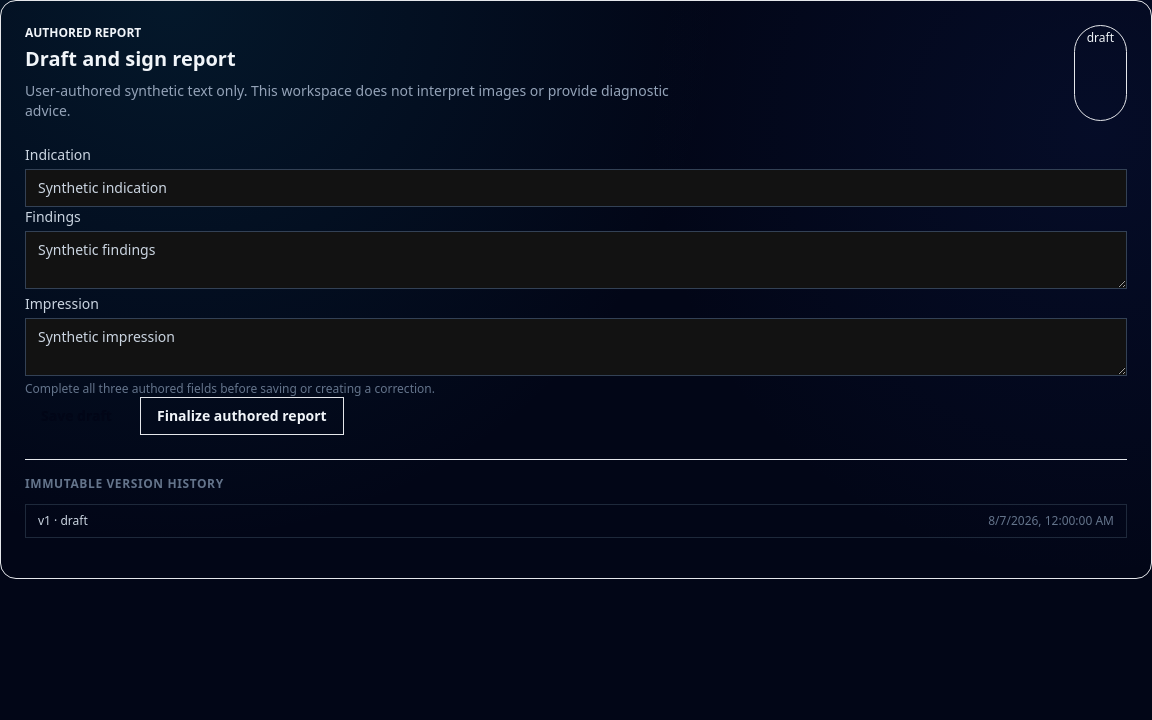
Test: ReportEditor › shows a stale-version detail without retrying the finalization
Click the button "Finalize authored report" at (242, 416), box top-left (140, 397), bottom-right (344, 435)
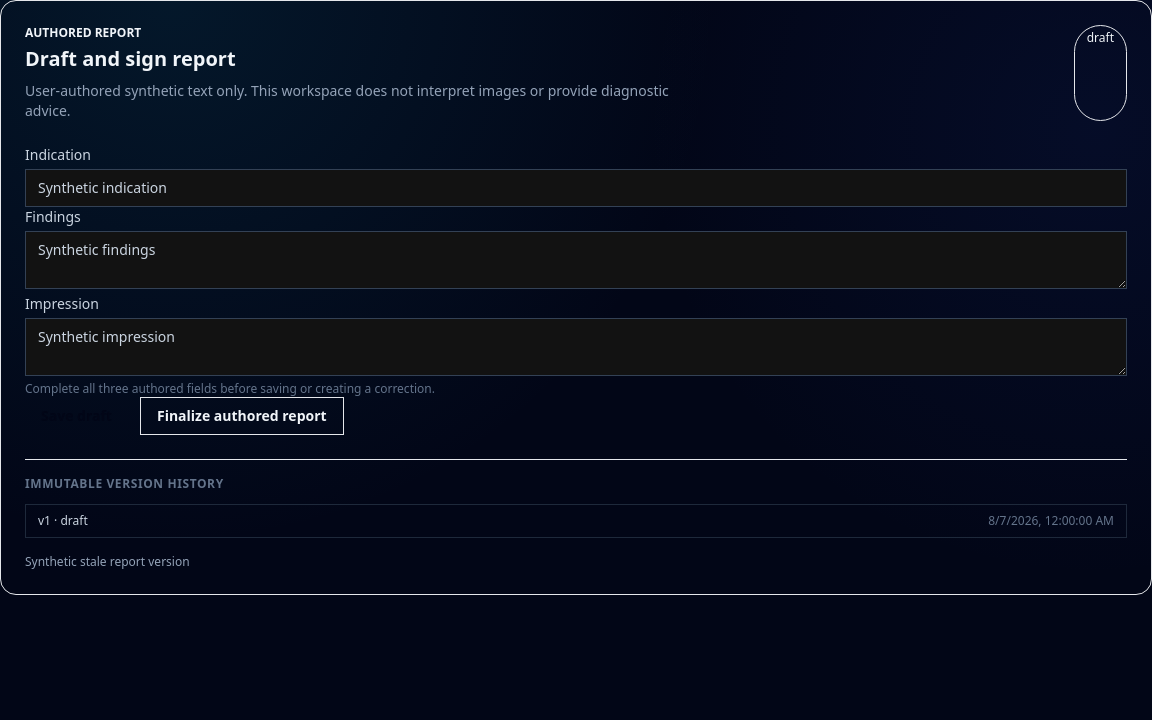
Expected: the text "Synthetic stale report version" is shown, top-left (25, 553), bottom-right (190, 570)
